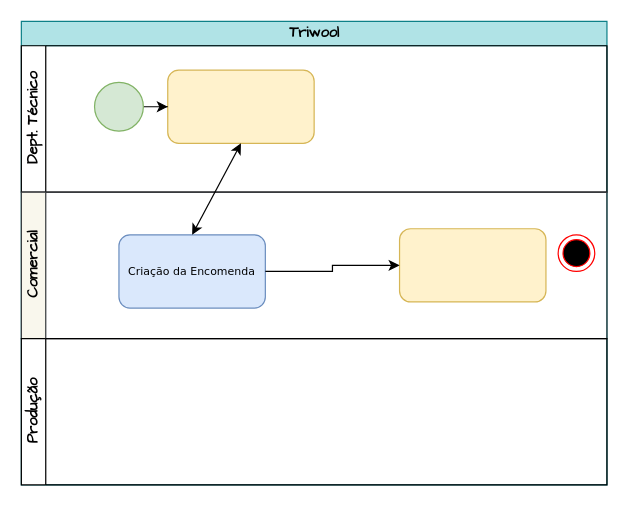
This 628x506 diagram has some shape labels left out. Here are the shapes that lost their labels. From the top down, the centre of each, then its label:
At point (240, 106): "Criação da Ficha técnica".
At point (472, 265): "Criação da Ordem de Fabrico".
